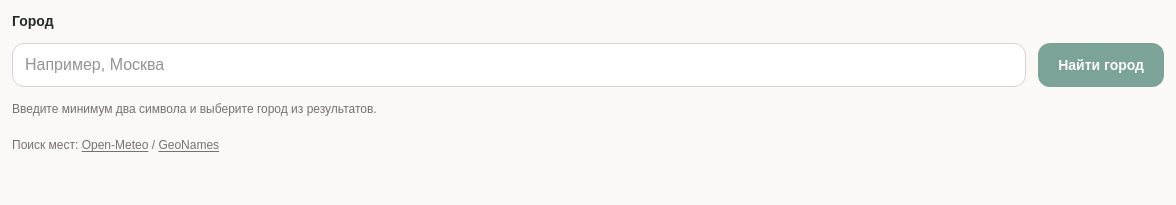
Scenario: localizes an empty city search in ru
In the field labelled "Город": (519, 65) [12,43,1026,87], type "Unknown city"
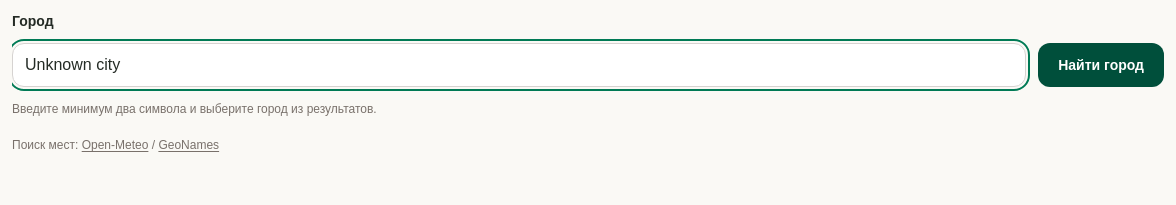
Click the button "Найти город": (1101, 65) [1038,43,1164,87]
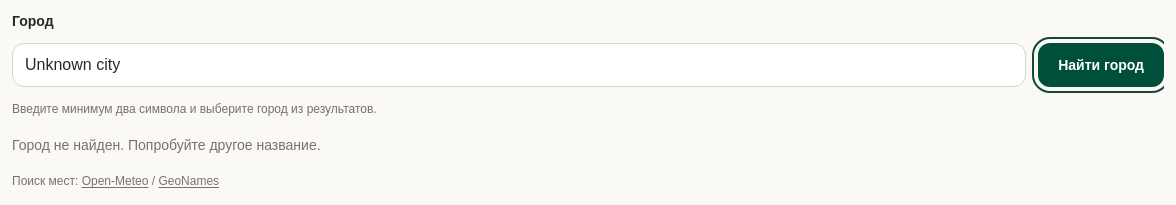
Now the message reads "Город не найден. Попробуйте другое название.", box [12,137,321,153]
